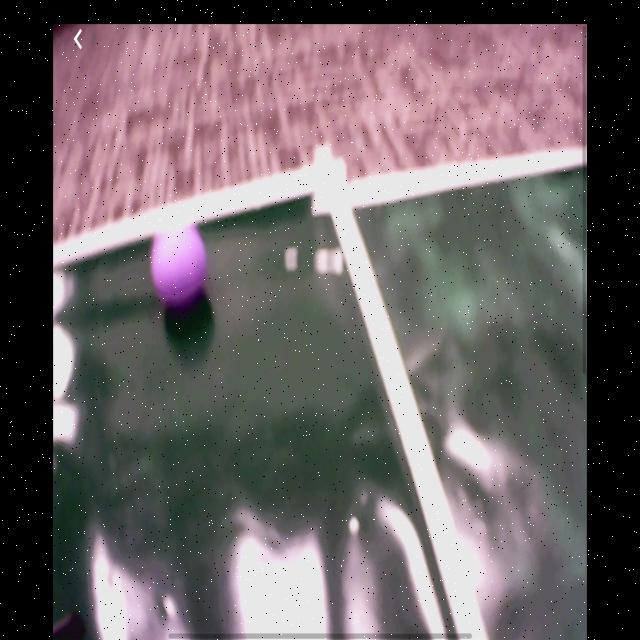ball: (151, 224, 208, 307)
